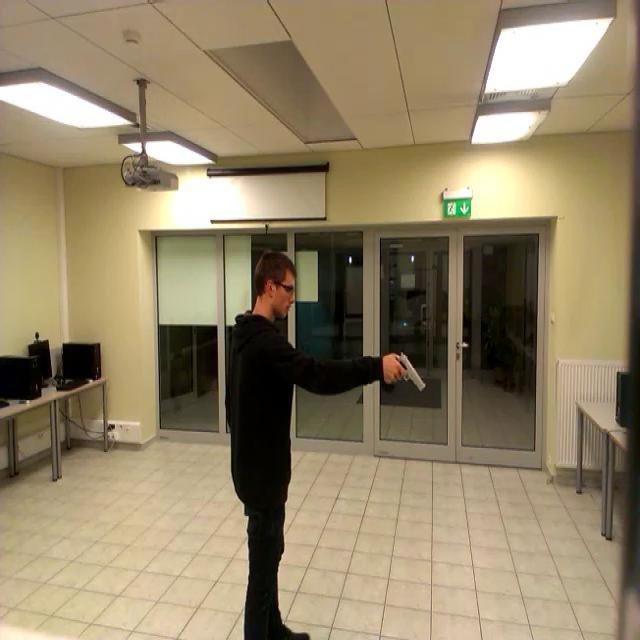weapon: (388, 352, 425, 393)
